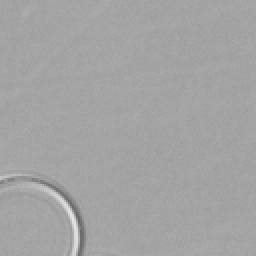picoshell: (0, 170, 84, 256)
